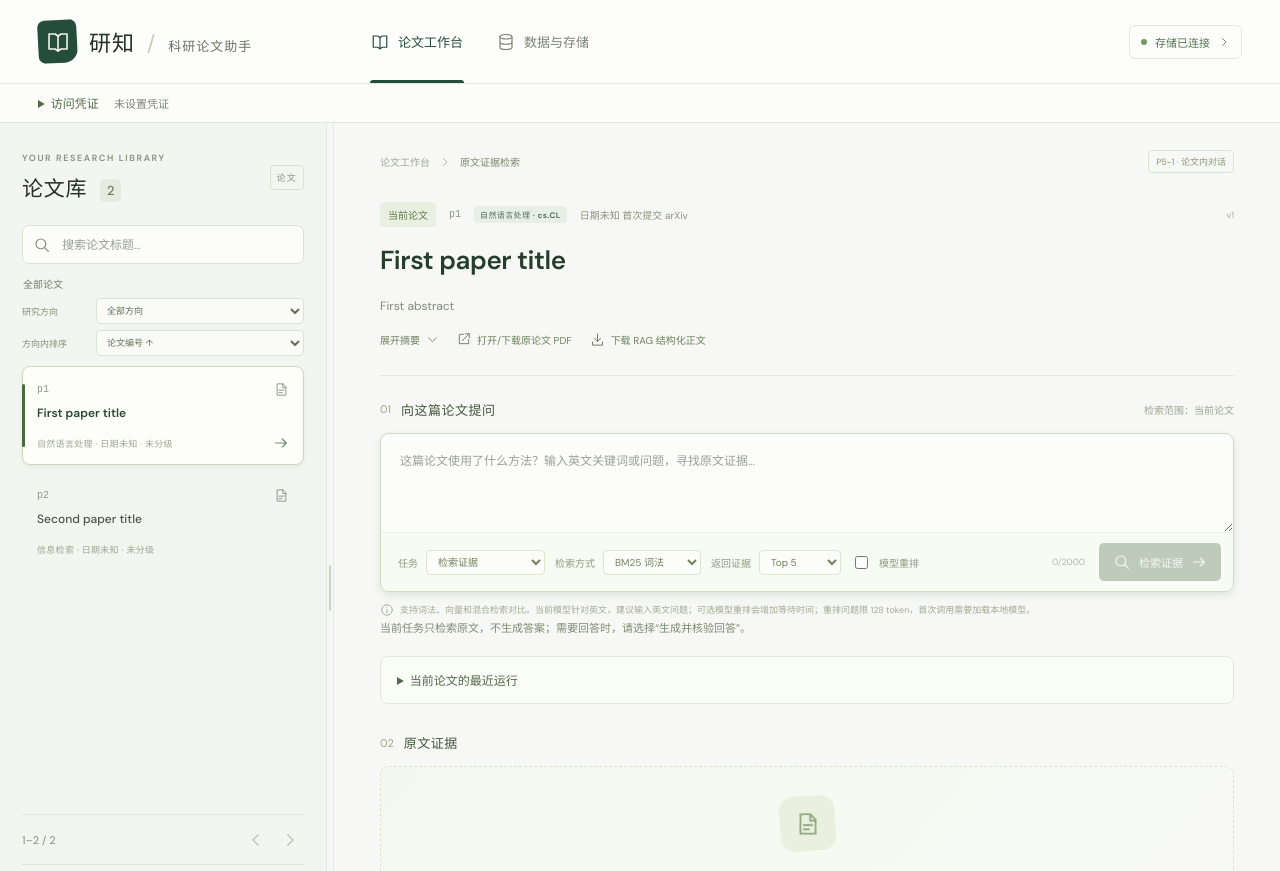
Test: never renders draft claims from a failed verification response
expect the heading "First paper title" below "首次提交 arXiv" is shown: met, box [380,243,566,277]
Step 1. Select "生成并核验回答" in the dropdown labelled "任务" → (486, 562), box [426,550,545,575]
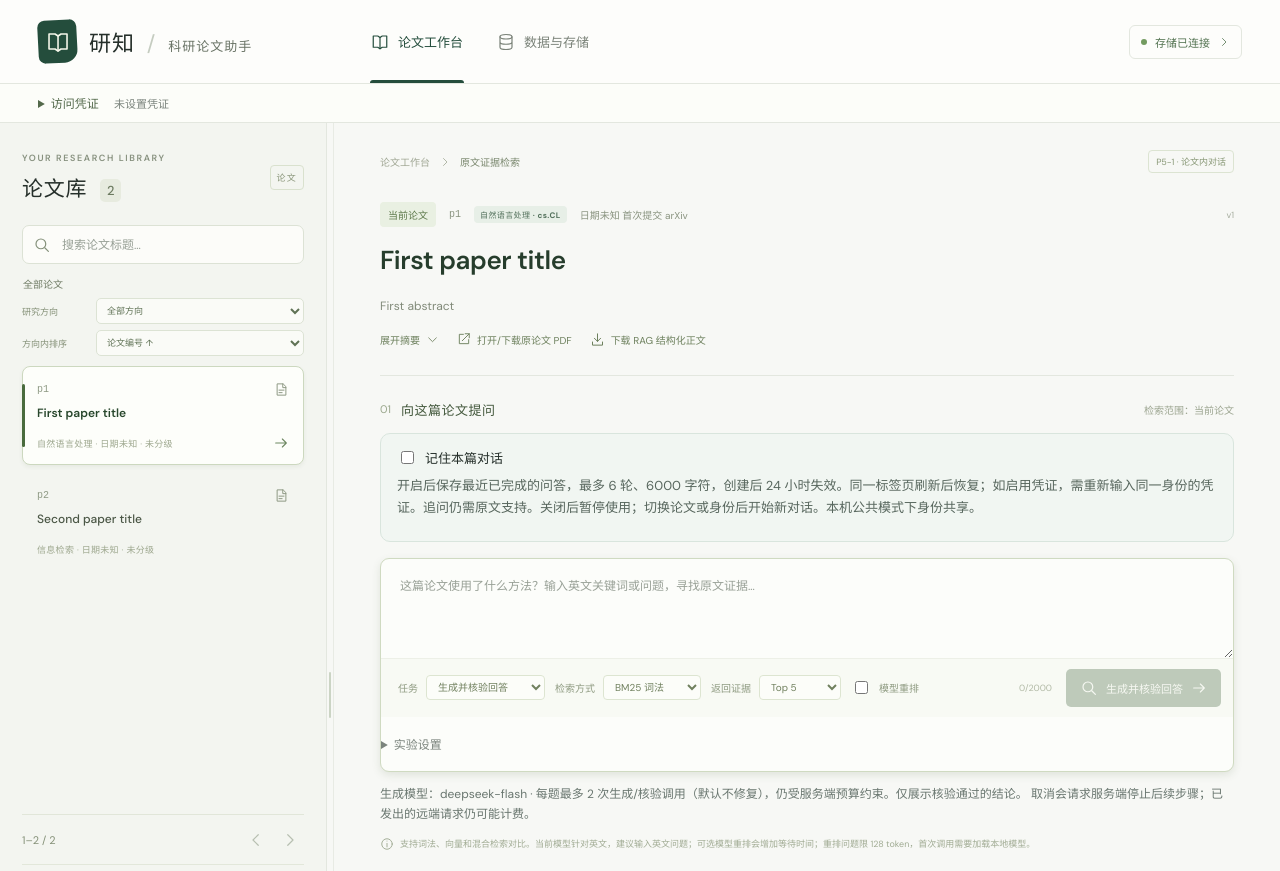
Step 2. Type "method" into the text box named "输入检索问题" → (807, 608), box [381,559,1233,658]
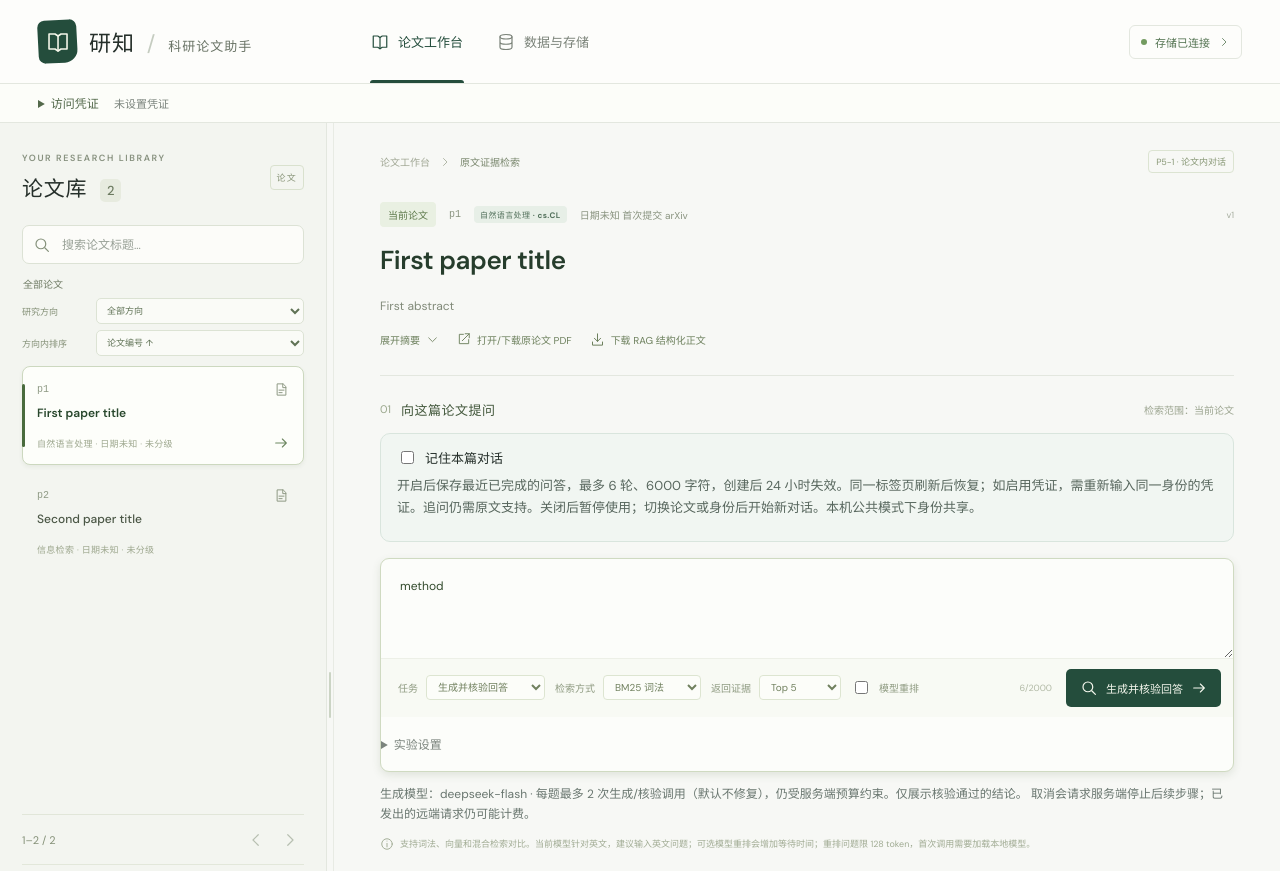
Step 3. Click the button "生成并核验回答" → (1144, 688), box [1066,669,1221,707]
(page scrolled)
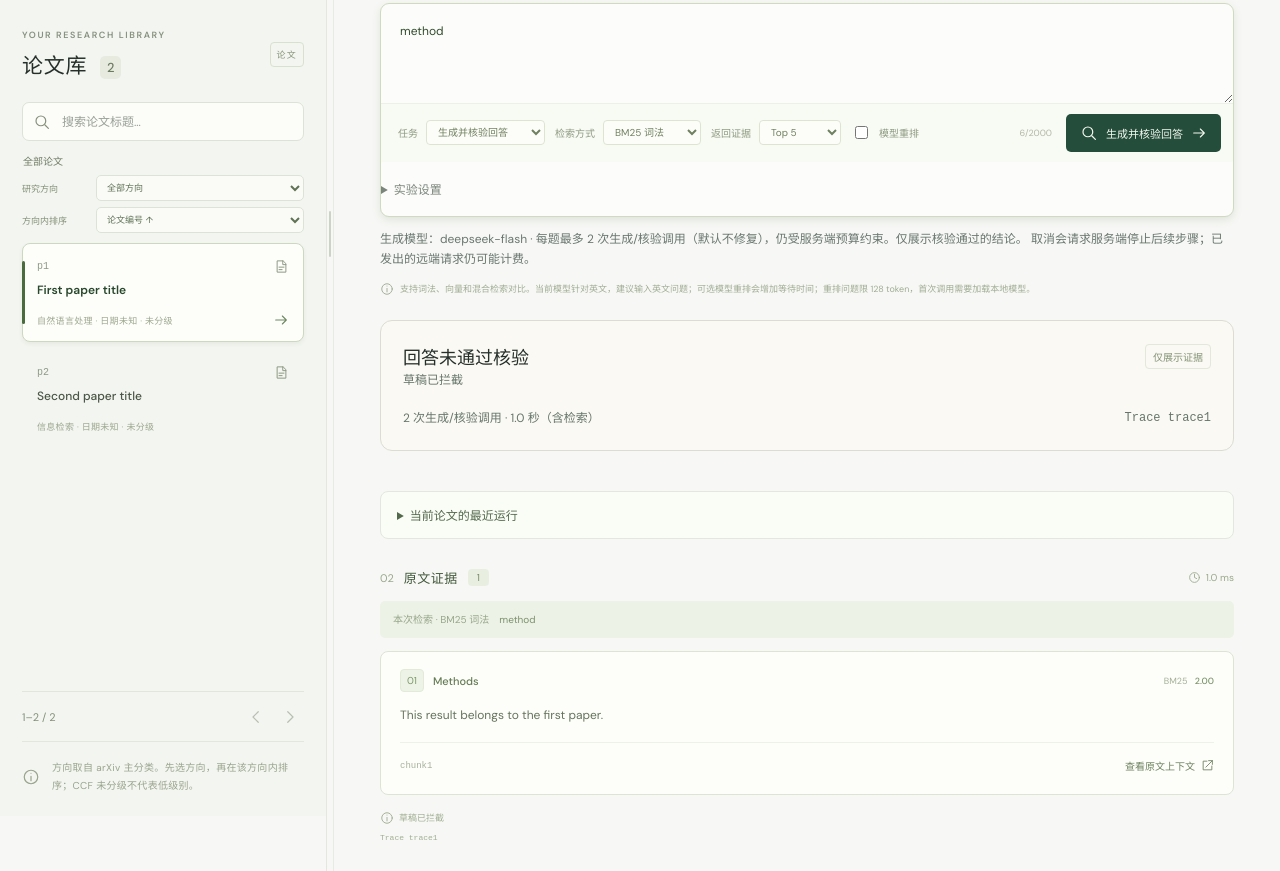
expect the heading "回答未通过核验" is shown: met, box [403,343,529,370]
expect the text "This result belongs to the first paper." is shown: met, box [400,707,603,723]
